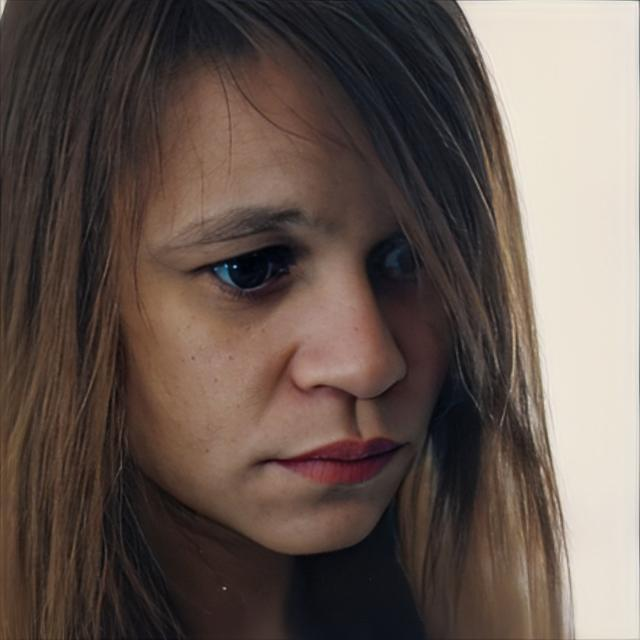sad: (124, 46, 457, 559)
